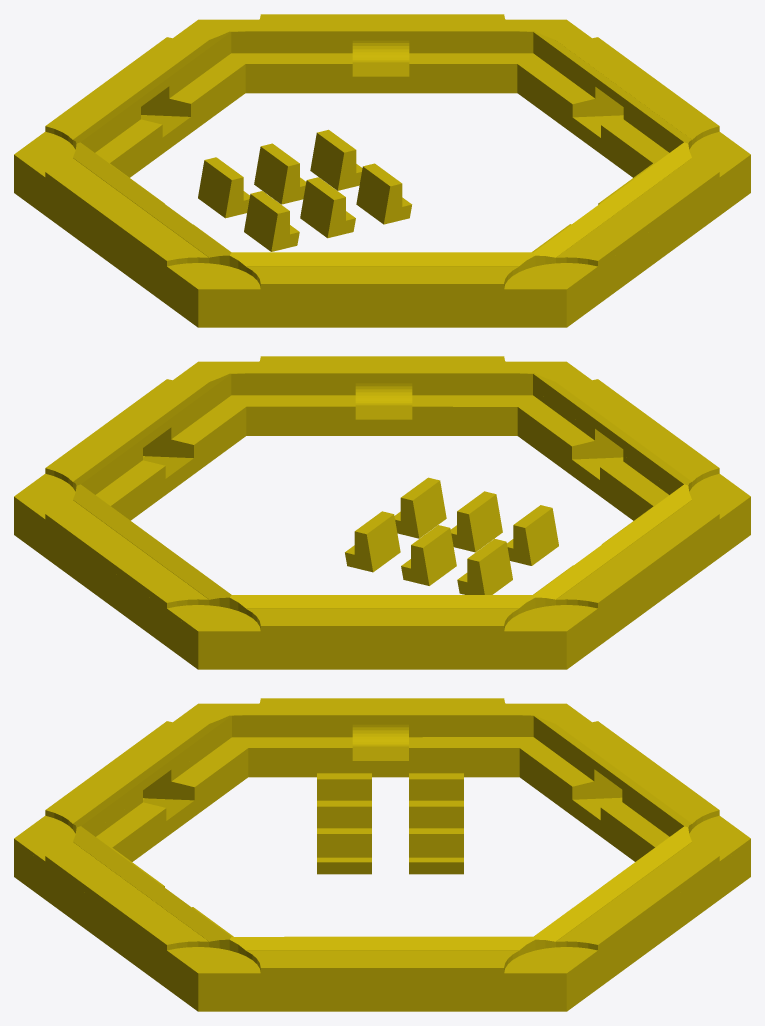
File: base_wheet.glb
3 renders of one model, top to bottom at view 1: azimuth 30°, elevation 25°; view 2: azimuth 150°, elevation 25°; view 3: azimuth 270°, elevation 25°, orthographic.
Parts seen in each view (by area): view 1: base_wheet; view 2: base_wheet; view 3: base_wheet.
Boxes of the visible parts, x1,y1,x2,y2 form: base_wheet: (14, 14, 750, 327); base_wheet: (14, 356, 750, 669); base_wheet: (14, 698, 750, 1011).
Size of the model in its own units: 79 by 6.95 by 91.22.
